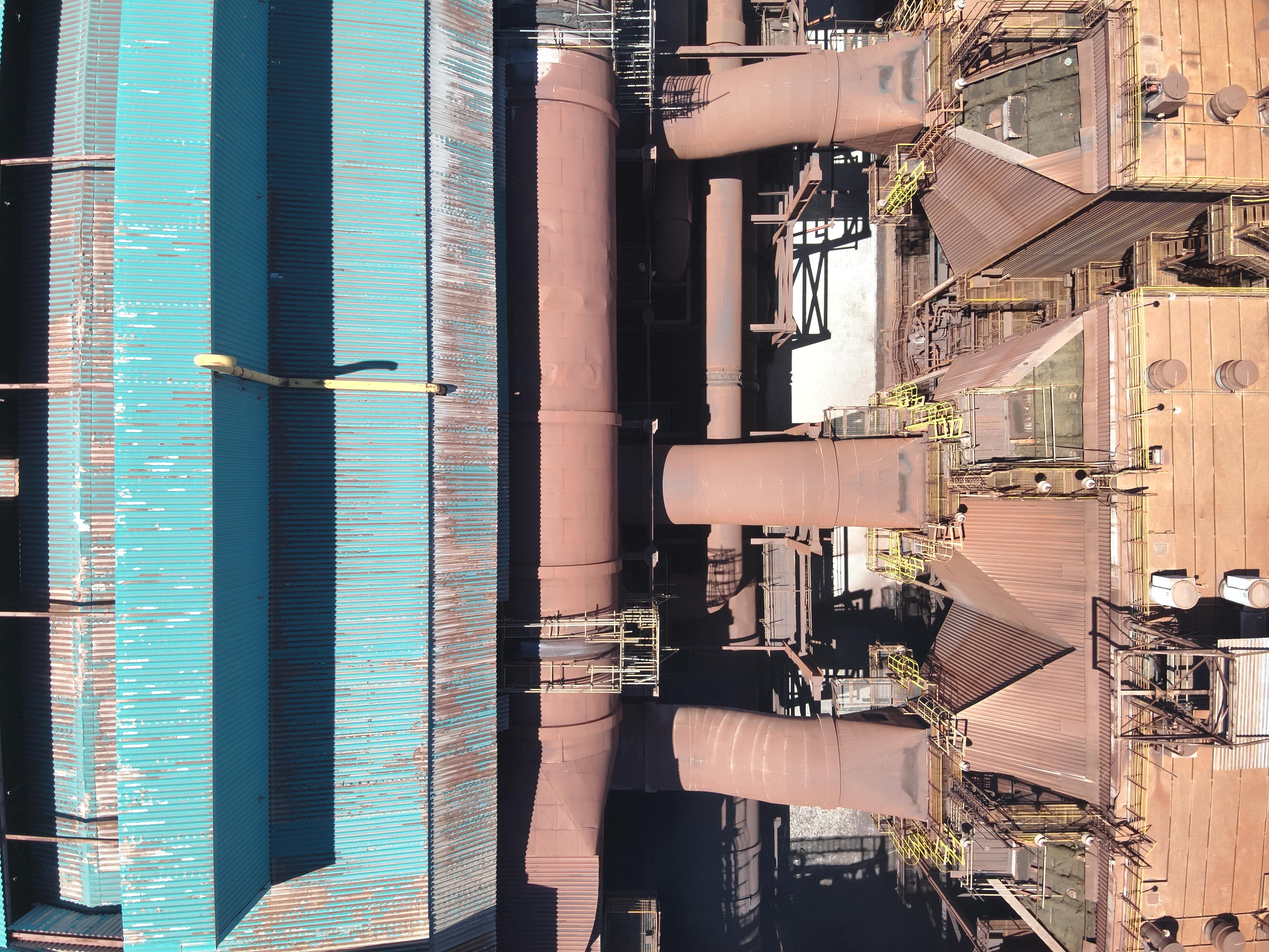Failures: (941, 35, 1092, 161), (1000, 315, 1089, 462), (1002, 827, 1091, 951)
